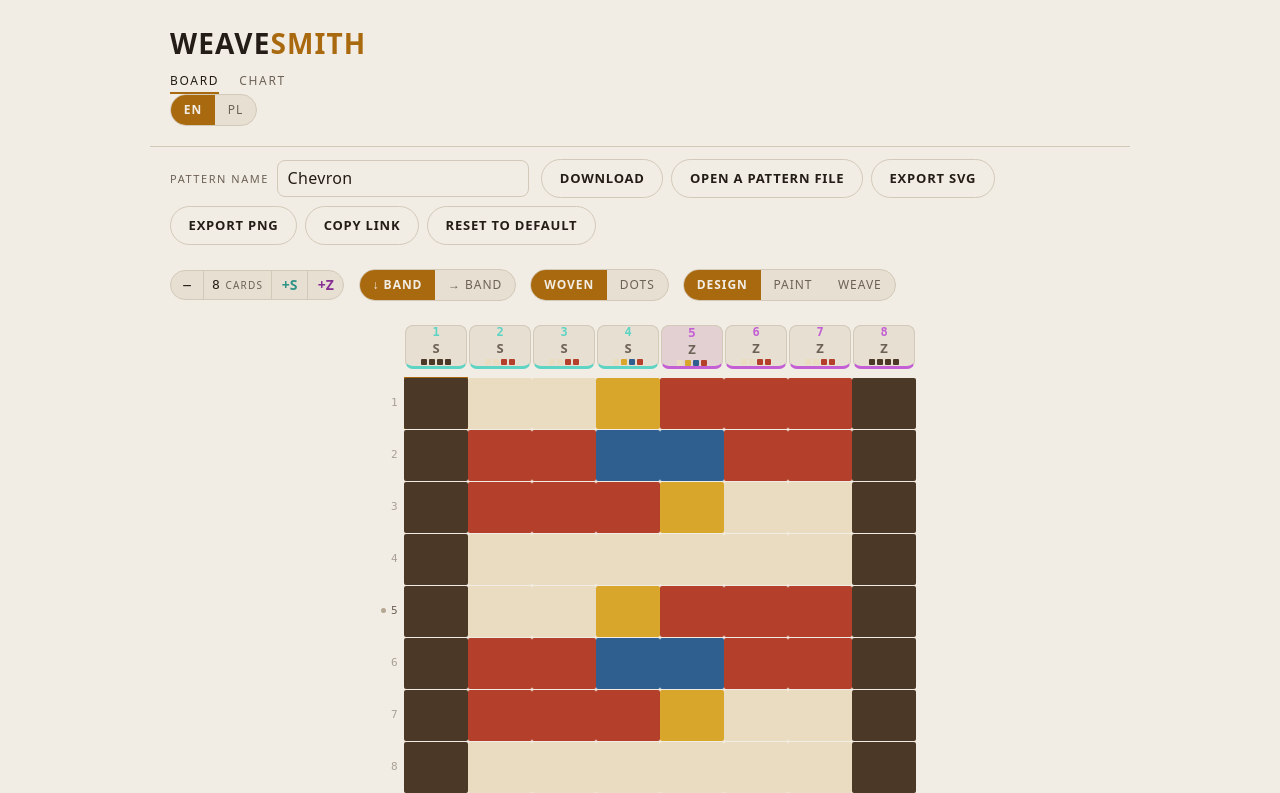
Test case: language toggle › translates the chart sheet, with Polish plural forms
The width and height of the screenshot is (1280, 793).
Click the button with aria-label "Polski": x=236, y=110 x1=215 y1=95 x2=256 y2=125
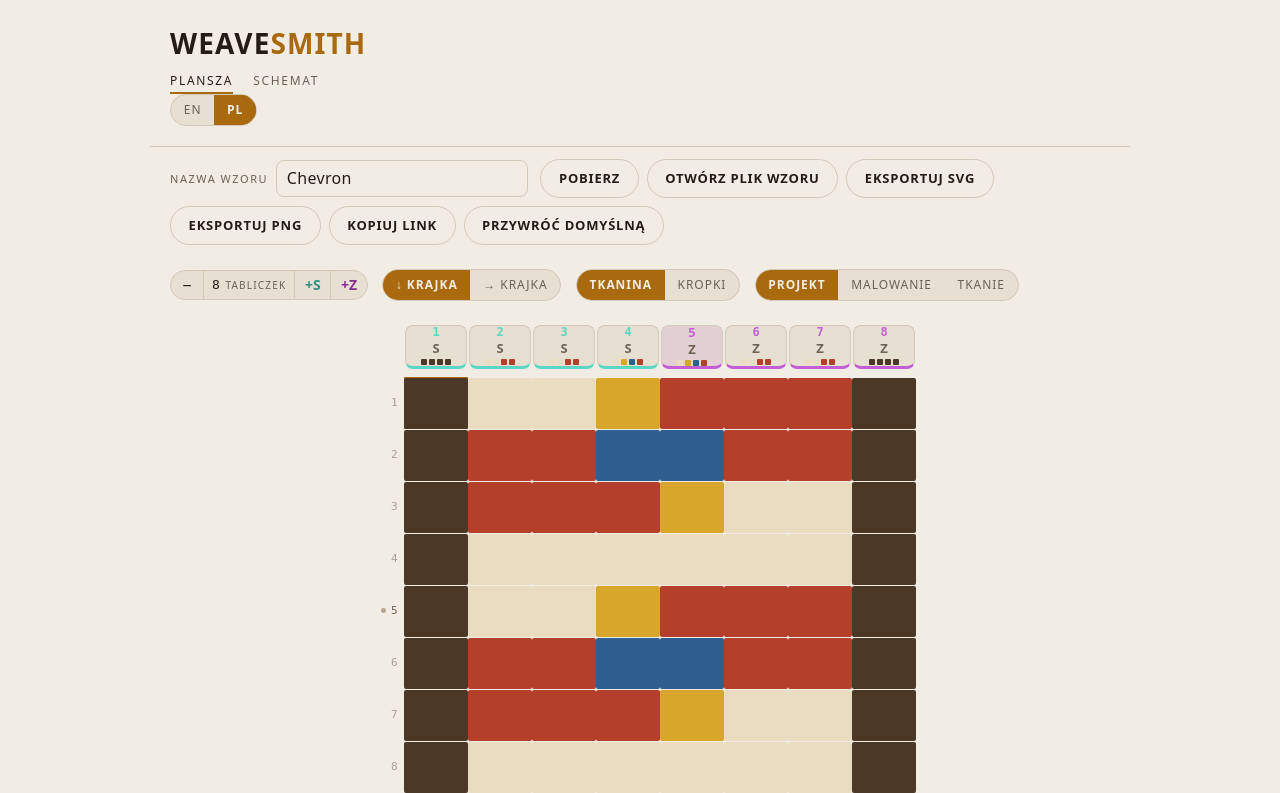
Click the link "Schemat": x=286, y=83 x1=253 y1=72 x2=319 y2=94
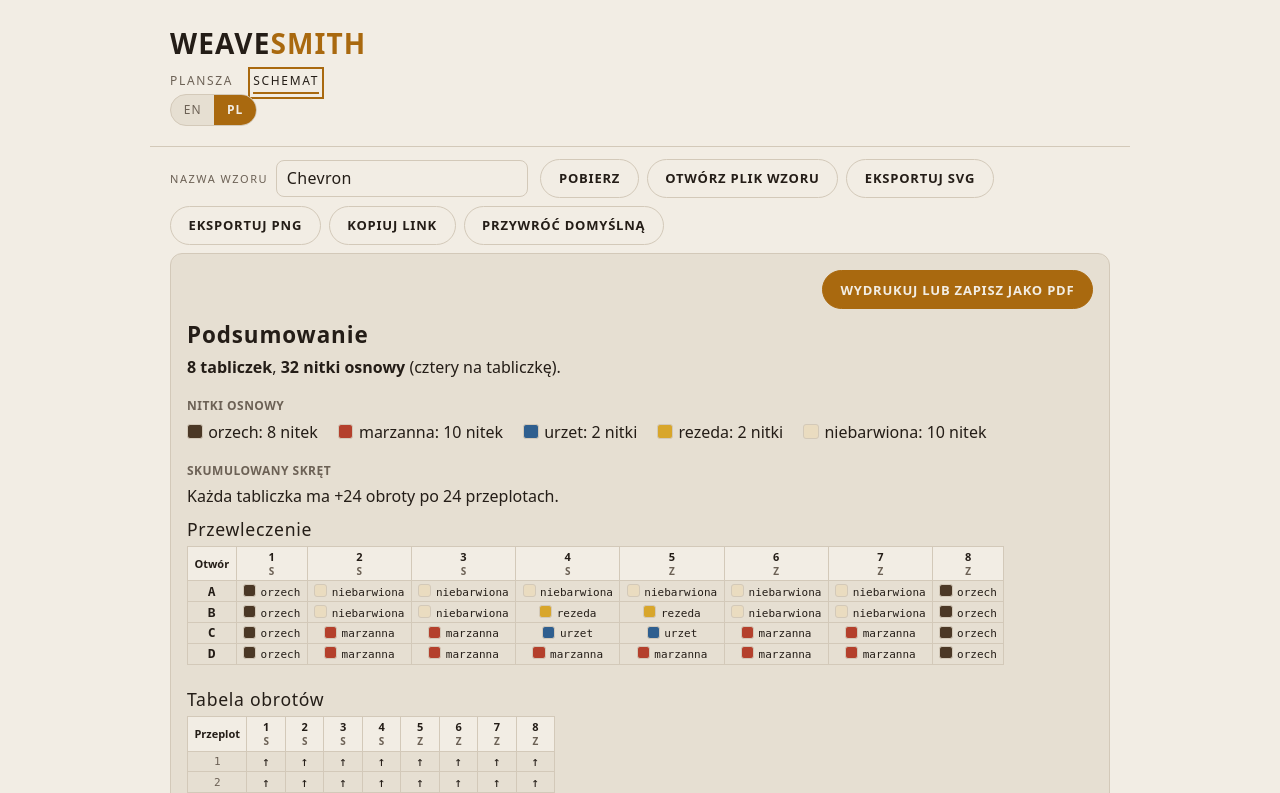
Expected: the heading "Podsumowanie" is shown, x1=187 y1=319 x2=369 y2=350
Expected: the element with test id "chart-summary" shows "8 tabliczek", x1=187 y1=356 x2=272 y2=378
Expected: the element with test id "chart-summary" shows "32 nitki osnowy", x1=281 y1=356 x2=405 y2=378
